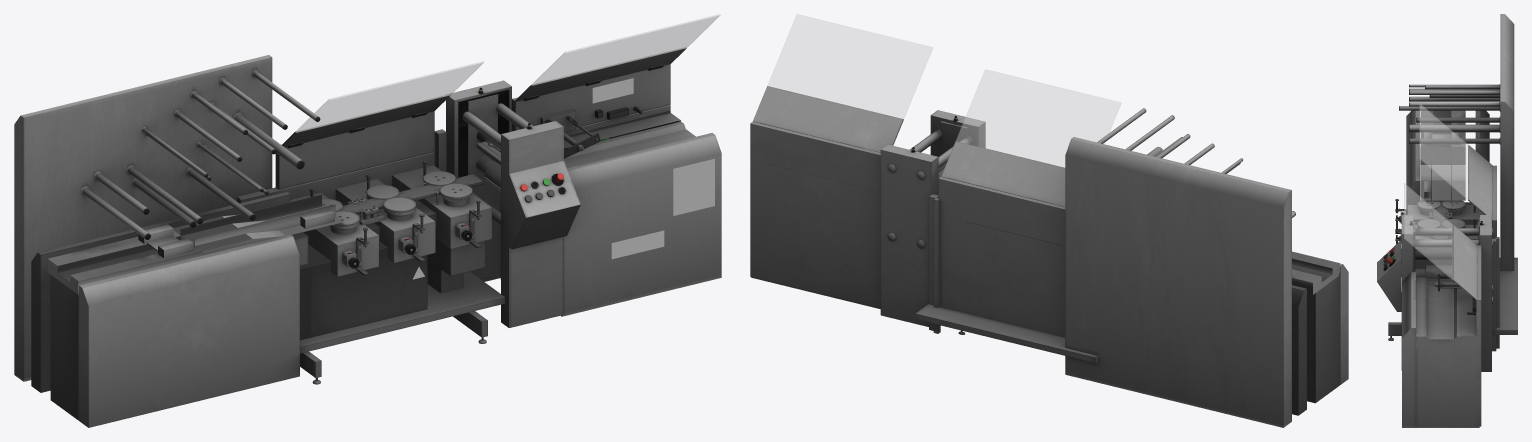
File: corta_multipack.fbx
3 views of the same model, side by side, from view 1: azimuth 30°, elevation 25°; view 2: azimuth 150°, elevation 25°; view 3: azimuth 270°, elevation 25° (orthographic). The views are drawn at different scales.
Parts seen in each view (by area): view 1: pCube42, pCube34, pCube32, polySurface10, polySurface21, polySurface22, pCube15, pCube36, pCube44, vidrio2, pCube35, vidrio1 (+25 smaller); view 2: pCube42, pCube43, pCube14, vidrio2, vidrio1, pCube22, pCube48, pCube44, pCube15, pCube16, pCube35, pCube11 (+7 smaller); view 3: pCube31, pCube42, vidrio1, vidrio2, pCube39, pCube32, pCube22, pCube48, pCube16, pCube11, pCube34, polySurface21 (+32 smaller).
Part boxes in pixels (bbox=[...]): pCube42: bbox=[14, 55, 272, 381]; pCube34: bbox=[79, 234, 299, 427]; pCube32: bbox=[561, 133, 721, 316]; polySurface10: bbox=[300, 241, 427, 340]; polySurface21: bbox=[509, 127, 580, 249]; polySurface22: bbox=[501, 121, 563, 327]; pCube15: bbox=[275, 111, 434, 189]; pCube36: bbox=[31, 191, 290, 392]; pCube44: bbox=[512, 64, 670, 131]; vidrio2: bbox=[532, 14, 720, 84]; pCube35: bbox=[50, 232, 308, 420]; vidrio1: bbox=[295, 61, 483, 132]; pCube42: bbox=[1065, 137, 1291, 427]; pCube43: bbox=[750, 159, 880, 308]; pCube14: bbox=[939, 215, 1065, 337]; vidrio2: bbox=[767, 14, 932, 118]; vidrio1: bbox=[956, 69, 1121, 167]; pCube22: bbox=[880, 144, 938, 326]; pCube48: bbox=[753, 86, 903, 152]; pCube44: bbox=[750, 121, 880, 191]; pCube15: bbox=[938, 176, 1065, 245]; pCube16: bbox=[941, 141, 1065, 206]; pCube35: bbox=[1307, 273, 1339, 403]; pCube11: bbox=[915, 304, 1098, 363]; pCube31: bbox=[1416, 277, 1479, 427]; pCube42: bbox=[1500, 14, 1514, 270]; vidrio1: bbox=[1419, 104, 1468, 199]; vidrio2: bbox=[1404, 183, 1452, 279]; pCube39: bbox=[1420, 147, 1465, 200]; pCube32: bbox=[1402, 271, 1415, 427]; pCube22: bbox=[1480, 215, 1491, 371]; pCube48: bbox=[1452, 224, 1477, 300]; pCube16: bbox=[1468, 145, 1492, 220]; pCube11: bbox=[1492, 257, 1517, 334]; pCube34: bbox=[1406, 110, 1420, 208]; polySurface21: bbox=[1377, 240, 1401, 311].
Bounding box in the file's own units: 44.63 × 17.87 × 11.93.
